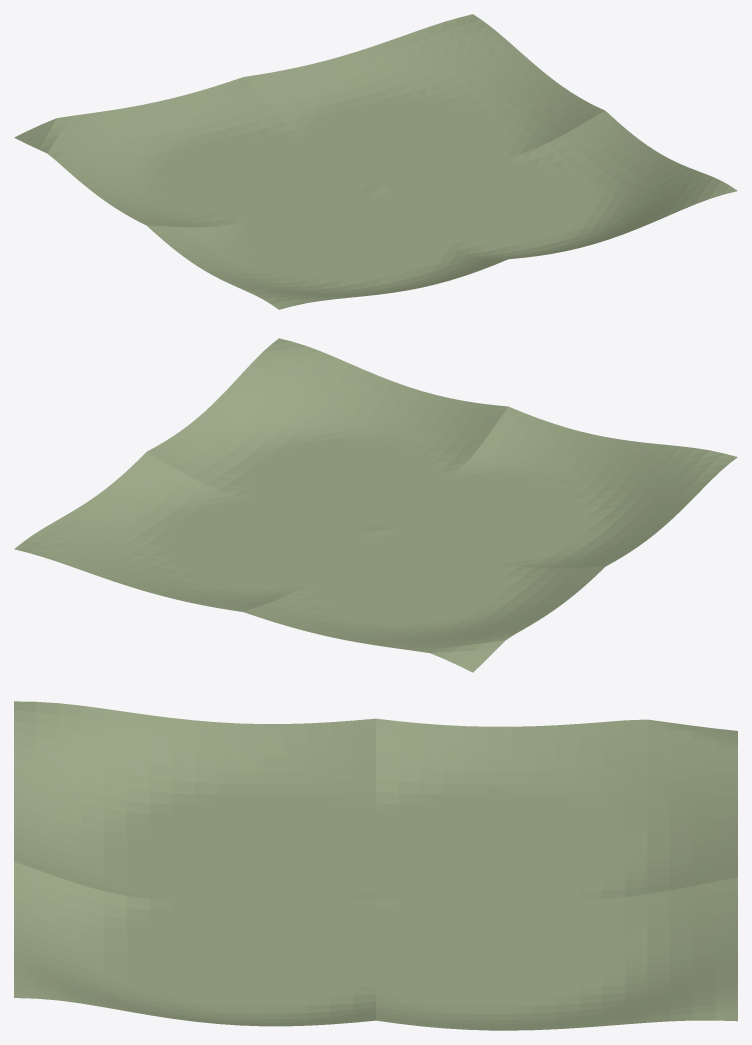
File: gardens-6-7.glb
The picture shows the model from 3 angles, top to bottom: view 1: azimuth 30°, elevation 25°; view 2: azimuth 150°, elevation 25°; view 3: azimuth 270°, elevation 25°; orthographic projection. The views are drawn at different scales.
Parts seen in each view (by area): view 1: gardens-6-7; view 2: gardens-6-7; view 3: gardens-6-7.
Boxes of the visible parts, <box> form: gardens-6-7: <box>14,14,737,309</box>; gardens-6-7: <box>14,338,737,672</box>; gardens-6-7: <box>14,701,737,1030</box>.
Size of the model in its own units: 256 by 21.49 by 256.
